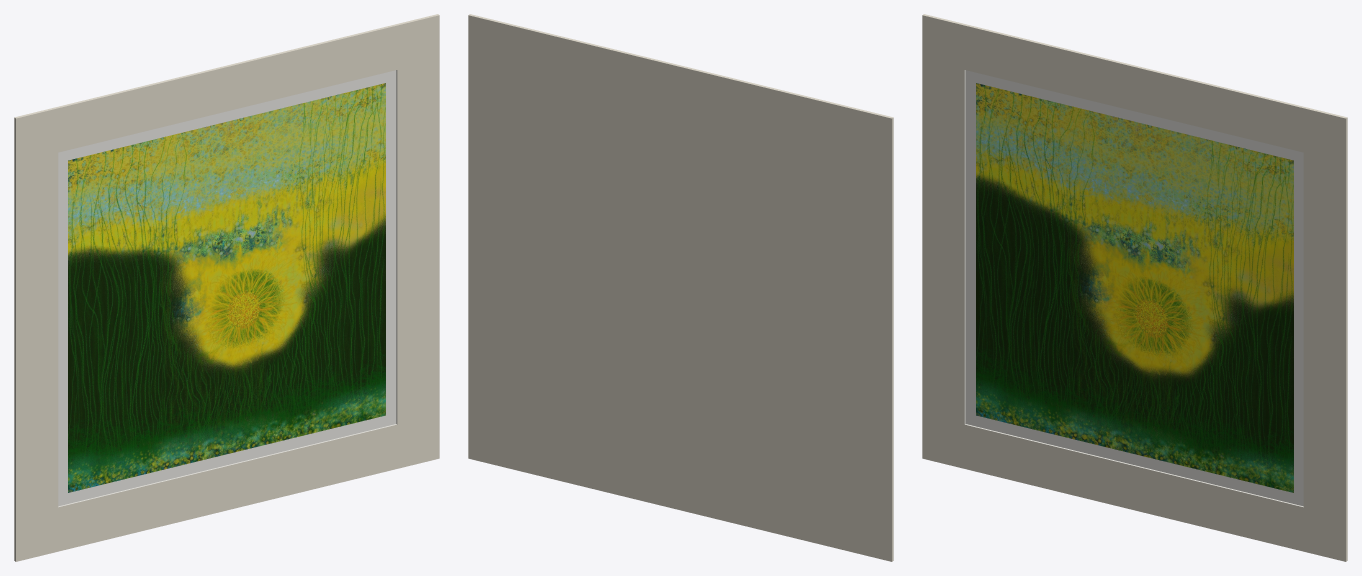
File: va201_moyen_passe-partout.glb
The picture shows the model from 3 angles, left to right: view 1: azimuth 30°, elevation 25°; view 2: azimuth 150°, elevation 25°; view 3: azimuth 330°, elevation 25°; orthographic projection.
Parts seen in each view (by area): view 1: va201_moyen_passe-partout; view 2: va201_moyen_passe-partout; view 3: va201_moyen_passe-partout.
Boxes of the visible parts, x1,y1,x2,y2 form: va201_moyen_passe-partout: [14, 14, 439, 561]; va201_moyen_passe-partout: [468, 14, 893, 561]; va201_moyen_passe-partout: [922, 14, 1347, 561].
Bounding box in the file's own units: 0.8 × 0.8 × 0.0055.
Materials: 4 (1 with a texture image).
